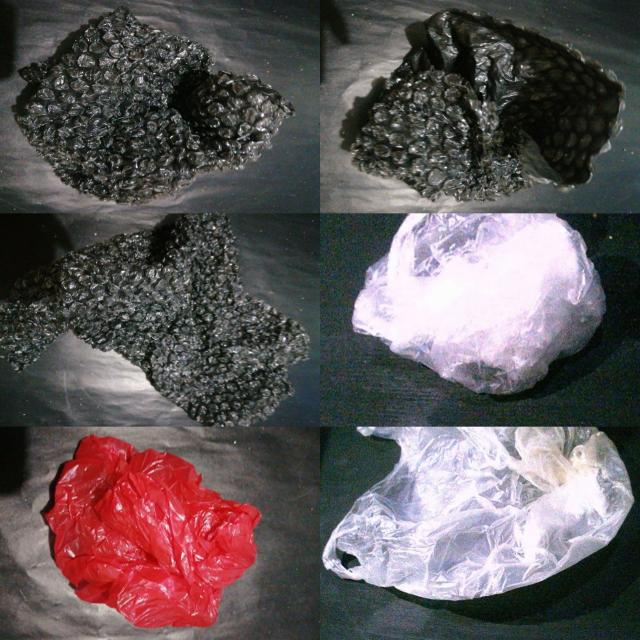Single-layer Plastic: (0, 214, 309, 426), (16, 8, 294, 204), (323, 428, 633, 599), (350, 10, 624, 201), (352, 214, 605, 393), (46, 436, 260, 627)
